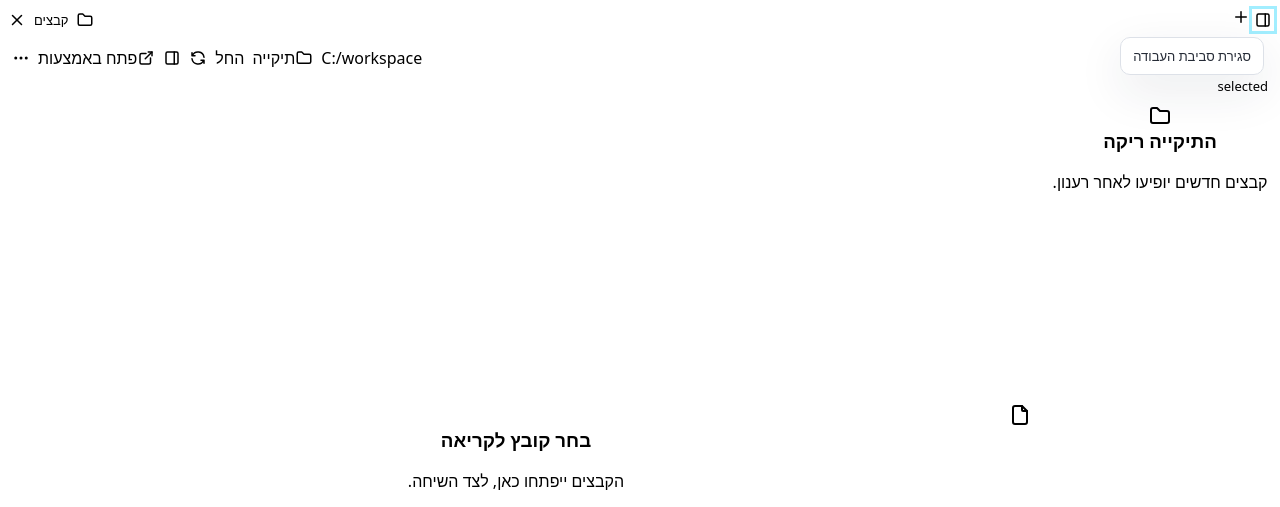
Test: folder button opens the native directory picker and loads the chosen root
The width and height of the screenshot is (1280, 507).
Expected: the field named "נתיב תיקיית העבודה" holds "C:/workspace", x1=321 y1=47 x2=1268 y2=69
Step 1. Click the button "תיקייה" → x=283, y=58, box x1=252 y1=47 x2=313 y2=69
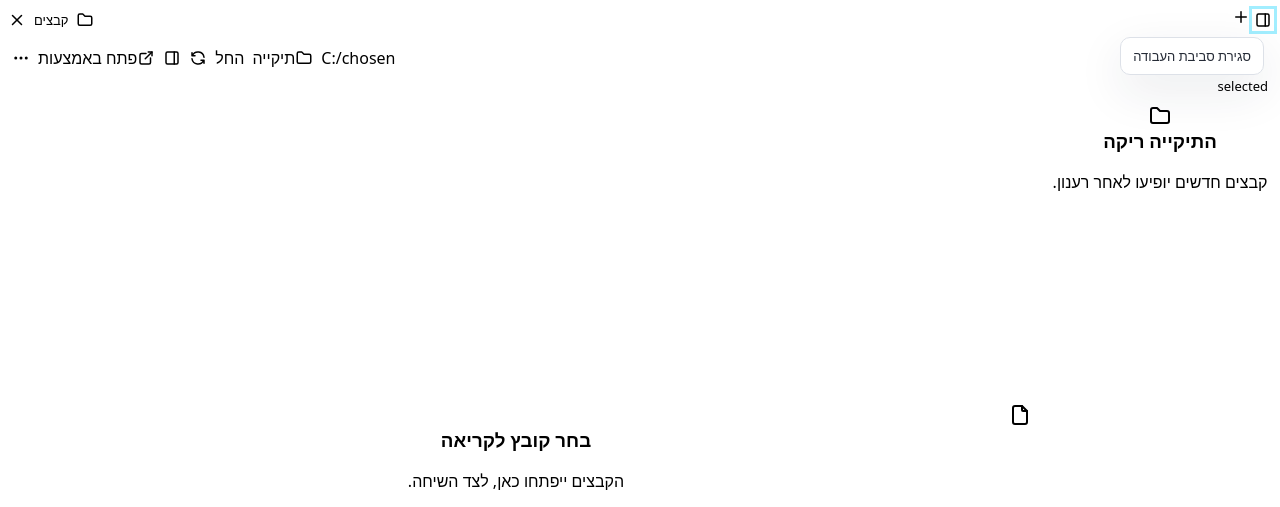
Expected: the field named "נתיב תיקיית העבודה" holds "C:/chosen", x1=321 y1=47 x2=1268 y2=69
